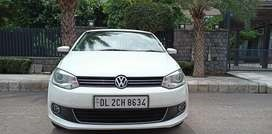DL2CH8634: (94, 96, 147, 108)
